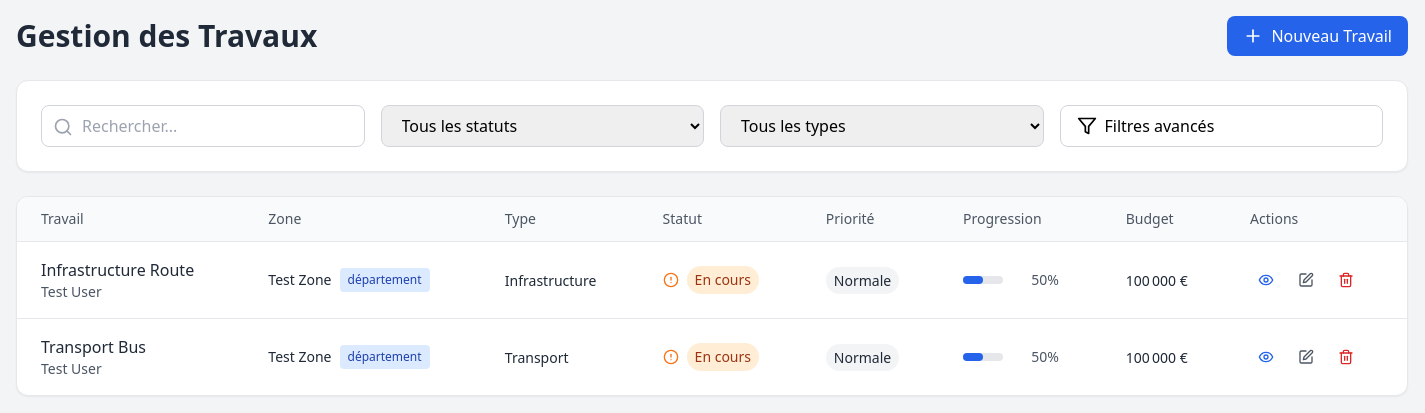
Test: TravauxList › should handle search functionality
Expected: the heading "Gestion des Travaux" is shown, x1=16 y1=18 x2=317 y2=54
Type "Infrastructure" into the field with placeholder "Rechercher...". click: {"x": 203, "y": 126}
box: x1=41 y1=105 x2=364 y2=147
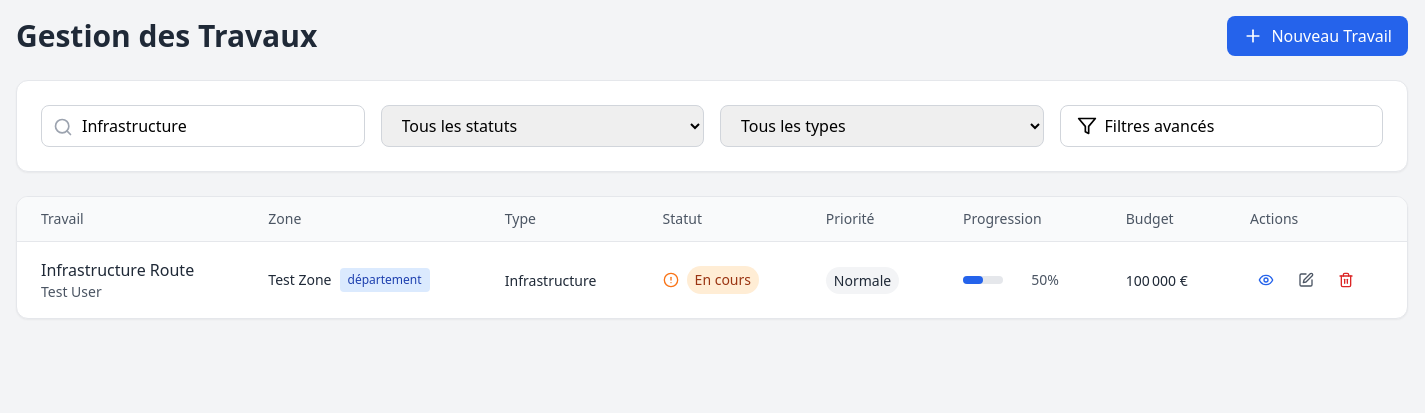
Expected: the heading "Infrastructure Route" is shown, x1=41 y1=258 x2=220 y2=282
Expected: the heading "Transport Bus" is gone
